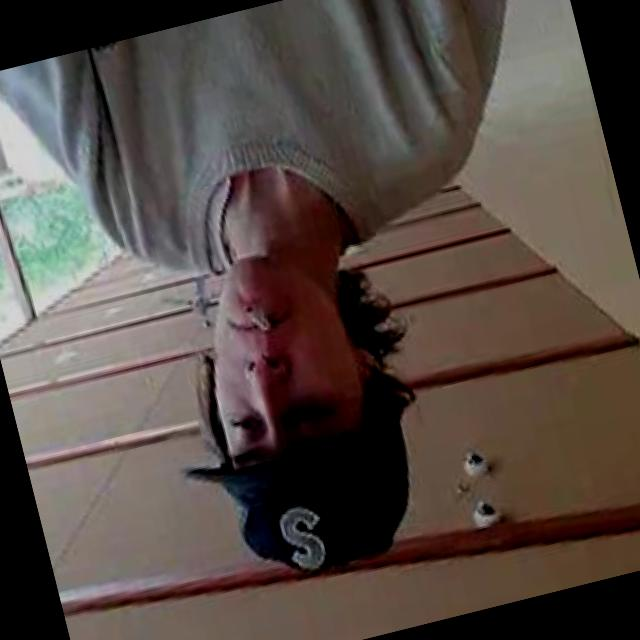cigarette: (227, 276, 286, 356)
